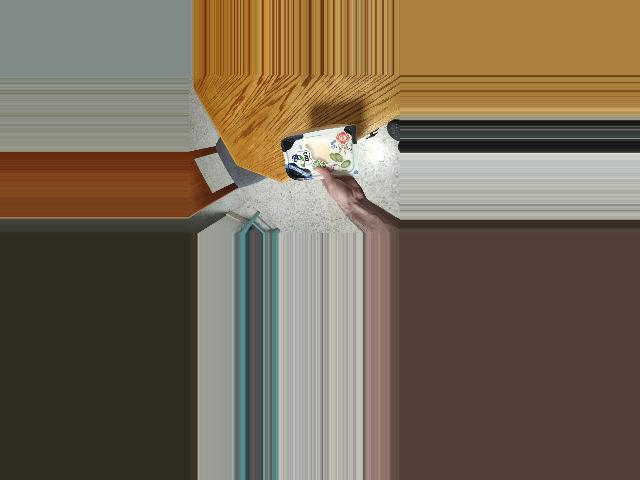cheese: (279, 129, 348, 181)
